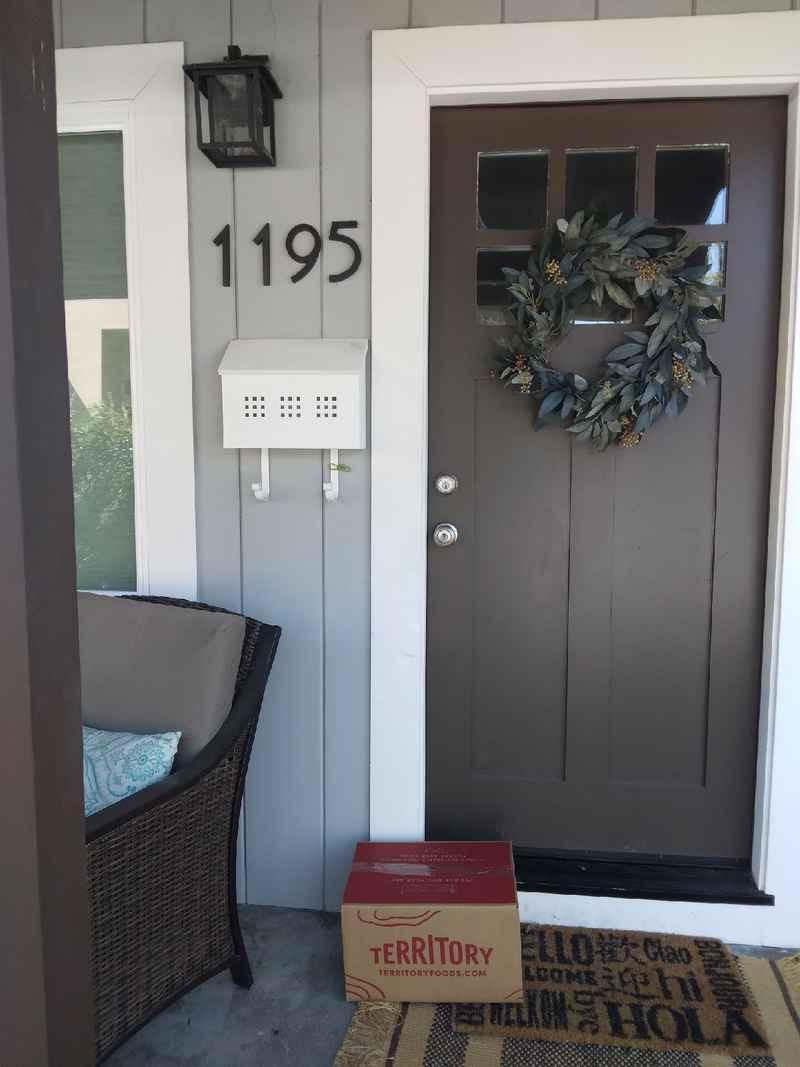package: (331, 833, 532, 1012)
